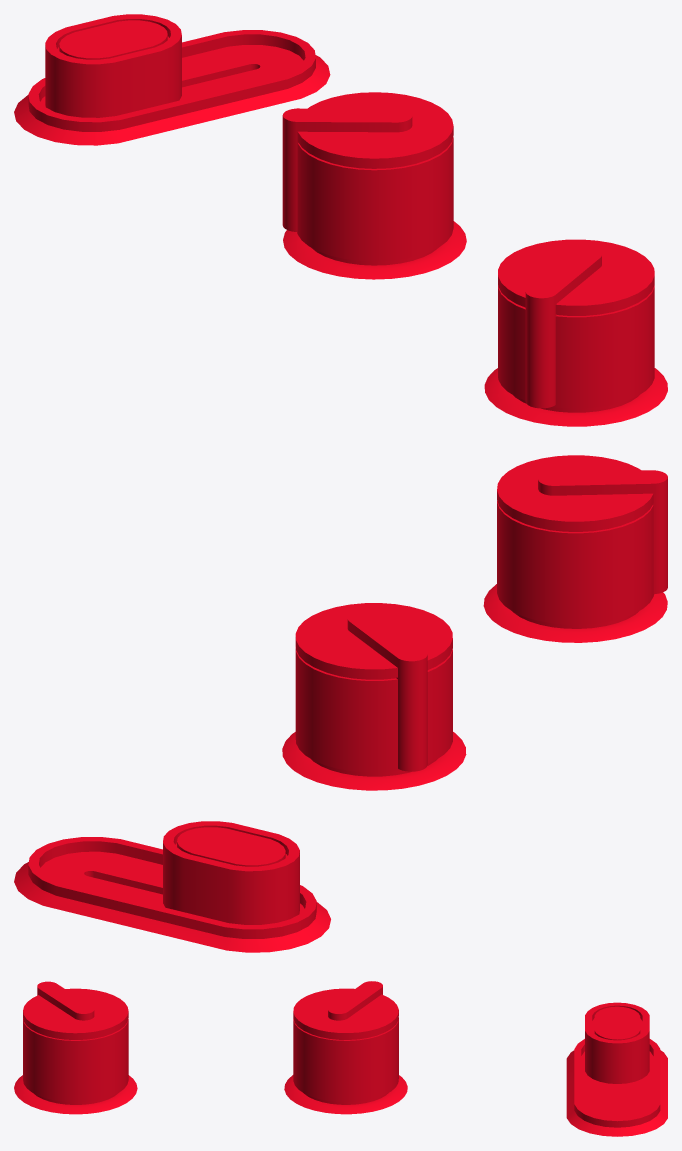
File: RED_RED_Button_A.glb
3 renders of one model, top to bottom at view 1: azimuth 30°, elevation 25°; view 2: azimuth 150°, elevation 25°; view 3: azimuth 270°, elevation 25°, orthographic. The views are drawn at different scales.
Visible parts, largest first — view 1: RED_Button_A; view 2: RED_Button_A; view 3: RED_Button_A.
Boxes of the visible parts, x1,y1,x2,y2 form: RED_Button_A: (14,14,667,426); RED_Button_A: (14,455,667,952); RED_Button_A: (14,981,667,1136).
Bounding box in the file's own units: 0.0339 × 0.0142 × 0.0965.
